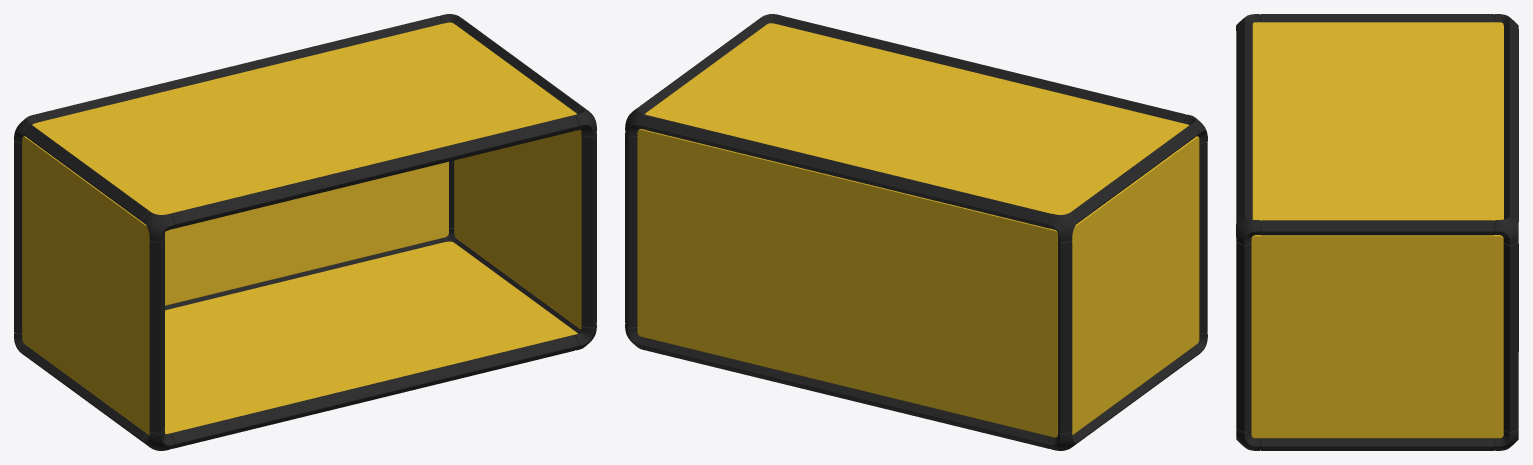
The picture shows the model from 3 angles, left to right: view 1: azimuth 30°, elevation 25°; view 2: azimuth 150°, elevation 25°; view 3: azimuth 270°, elevation 25°; orthographic projection. The views are drawn at different scales.
Visible parts, largest first — view 1: 729x374x329; view 2: 729x374x329; view 3: 729x374x329.
Boxes of the visible parts, left/top/right/bottom form: 729x374x329: left=14, top=14, right=596, bottom=450; 729x374x329: left=625, top=14, right=1207, bottom=450; 729x374x329: left=1236, top=14, right=1518, bottom=450.
Bounding box in the file's own units: 0.8067 × 0.4066 × 0.4513.
